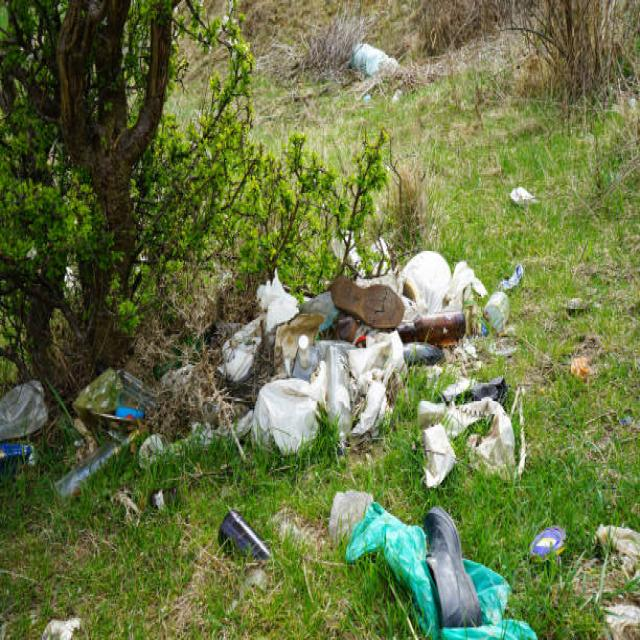plastic: (177, 281, 542, 458)
